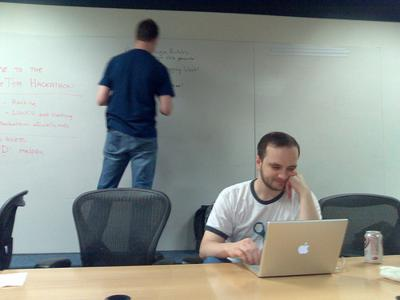person: (95, 17, 175, 191)
